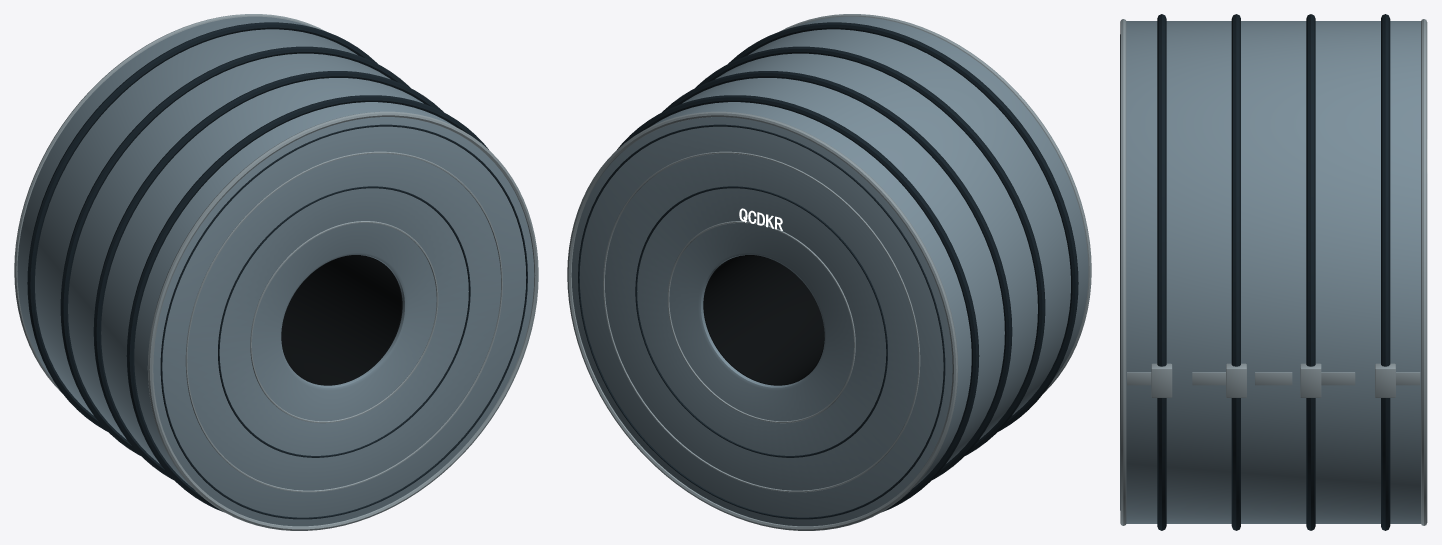
Rendered from coil.glb.
The picture shows the model from 3 angles, left to right: view 1: azimuth 30°, elevation 25°; view 2: azimuth 150°, elevation 25°; view 3: azimuth 270°, elevation 25°; orthographic projection. The views are drawn at different scales.
Parts seen in each view (by area): view 1: Asset_coil; view 2: Asset_coil; view 3: Asset_coil.
Boxes of the visible parts, x1,y1,x2,y2 form: Asset_coil: [14, 14, 538, 530]; Asset_coil: [567, 14, 1091, 530]; Asset_coil: [1120, 14, 1427, 530].
Bounding box in the file's own units: 2.24 × 2.22 × 1.32.
